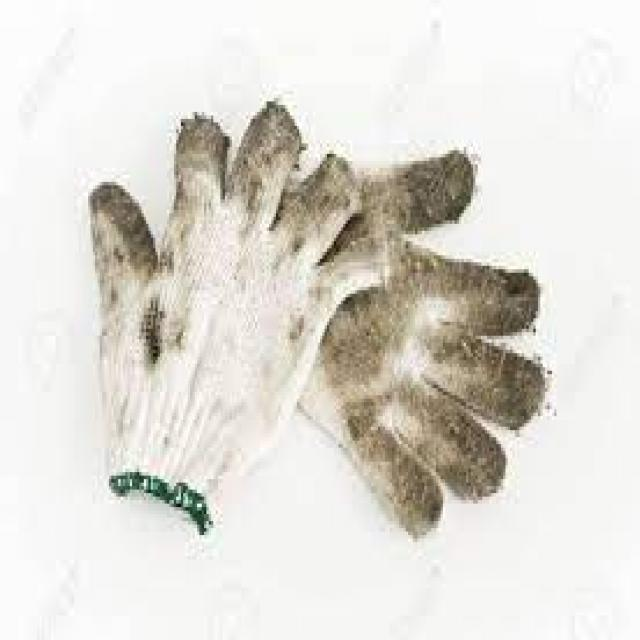Clothes -Biodegradable-: (92, 101, 548, 534)
